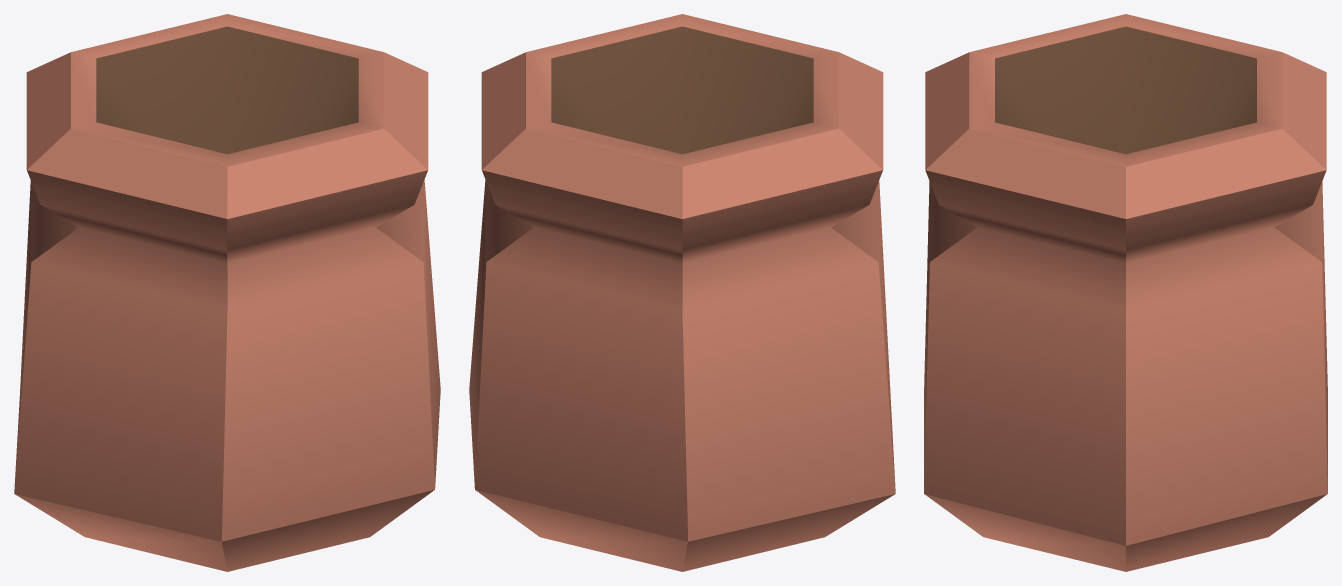
File: jarro_4_pacote.glb
The picture shows the model from 3 angles, left to right: view 1: azimuth 30°, elevation 25°; view 2: azimuth 150°, elevation 25°; view 3: azimuth 270°, elevation 25°; orthographic projection.
Parts seen in each view (by area): view 1: jarro_4_pacote; view 2: jarro_4_pacote; view 3: jarro_4_pacote.
Part boxes in pixels (x1=…): jarro_4_pacote: x1=14, y1=14, x2=440, y2=571; jarro_4_pacote: x1=469, y1=14, x2=895, y2=571; jarro_4_pacote: x1=924, y1=14, x2=1327, y2=571.
Size of the model in its own units: 0.3624 by 0.3344 by 0.2971.
1 material, 1 textured.
